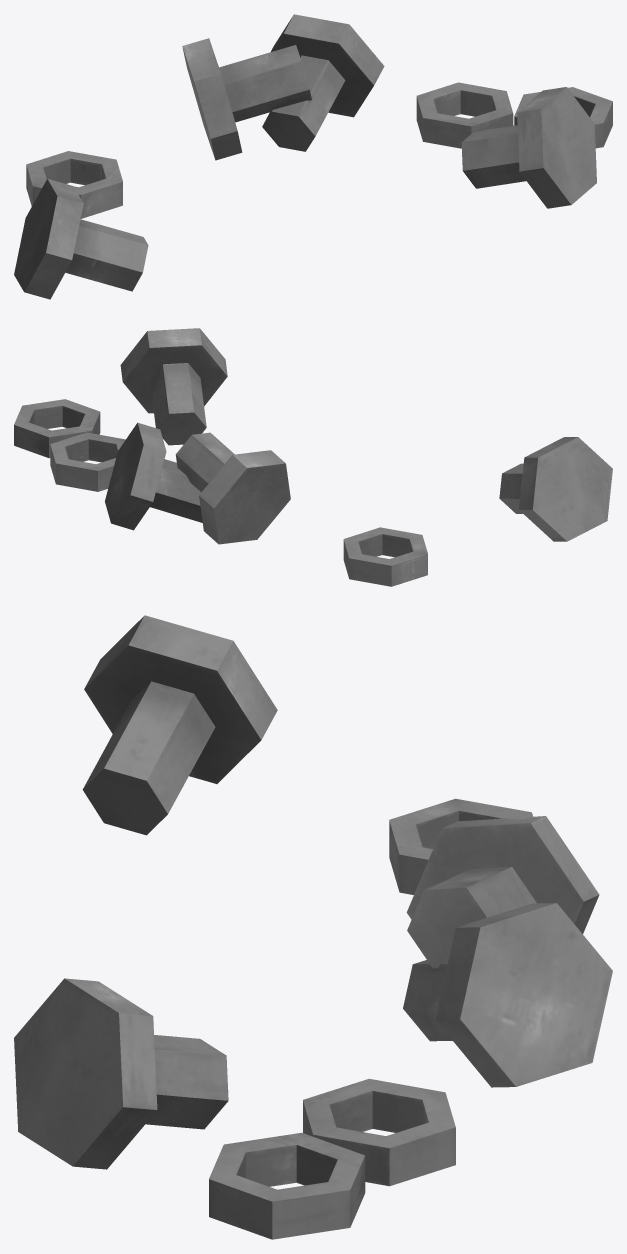
The model's file is SM_Bolts_1.fbx.
The picture shows the model from 3 angles, top to bottom: view 1: azimuth 30°, elevation 25°; view 2: azimuth 150°, elevation 25°; view 3: azimuth 270°, elevation 25°; orthographic projection. The views are drawn at different scales.
Visible parts, largest first — view 1: Cylinder.003; view 2: Cylinder.003; view 3: Cylinder.003.
Part boxes in pixels (x1,y1,x2,y2): Cylinder.003: (14, 14, 612, 299); Cylinder.003: (14, 328, 612, 586); Cylinder.003: (14, 615, 612, 1239).
Size of the model in its own units: 51.57 by 8.43 by 26.88.
